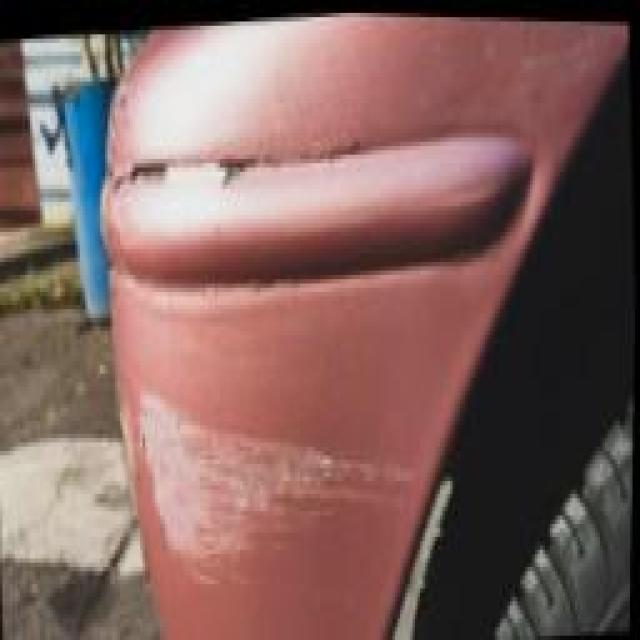Bumper: (72, 21, 482, 640)
